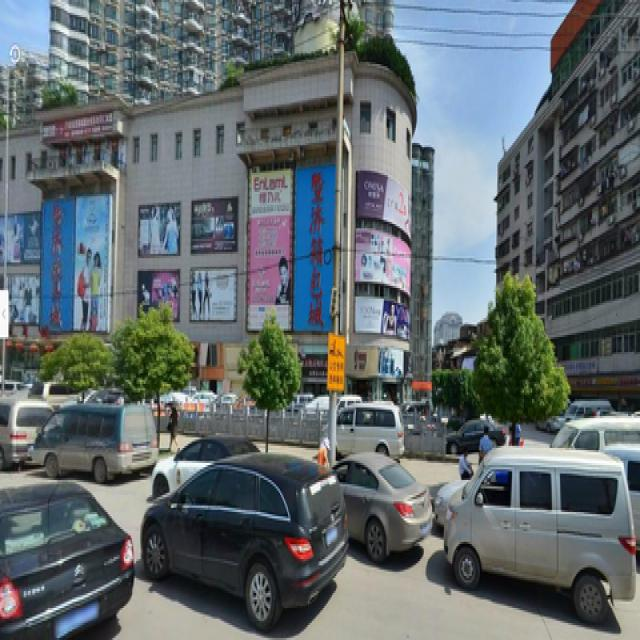cinn: (480, 278, 544, 472), (239, 316, 292, 454), (127, 318, 177, 439)
